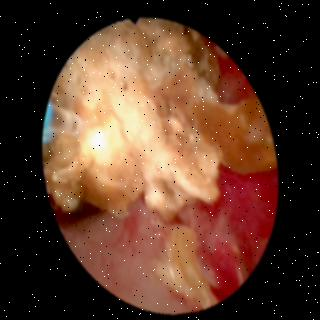stone: (45, 19, 275, 217), (156, 225, 216, 305)
tissue: (70, 201, 186, 309), (185, 169, 274, 292)
